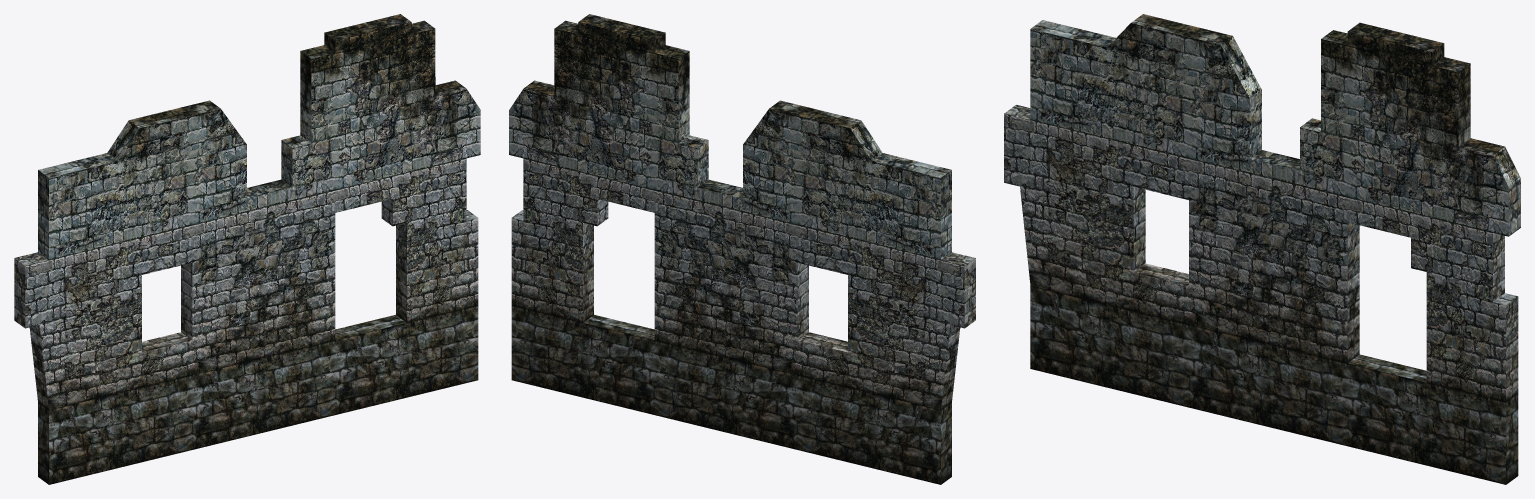
3 renders of one model, left to right at view 1: azimuth 30°, elevation 25°; view 2: azimuth 150°, elevation 25°; view 3: azimuth 330°, elevation 25°, orthographic. The views are drawn at different scales.
Parts seen in each view (by area): view 1: hr_hf3-col; view 2: hr_hf3-col; view 3: hr_hf3-col.
Boxes of the visible parts, x1,y1,x2,y2 form: hr_hf3-col: (14, 14, 480, 484); hr_hf3-col: (509, 14, 975, 484); hr_hf3-col: (1004, 14, 1520, 484).
Bounding box in the file's own units: 9.55 × 7.5 × 0.4005.
Materials: 5 (5 with a texture image).
